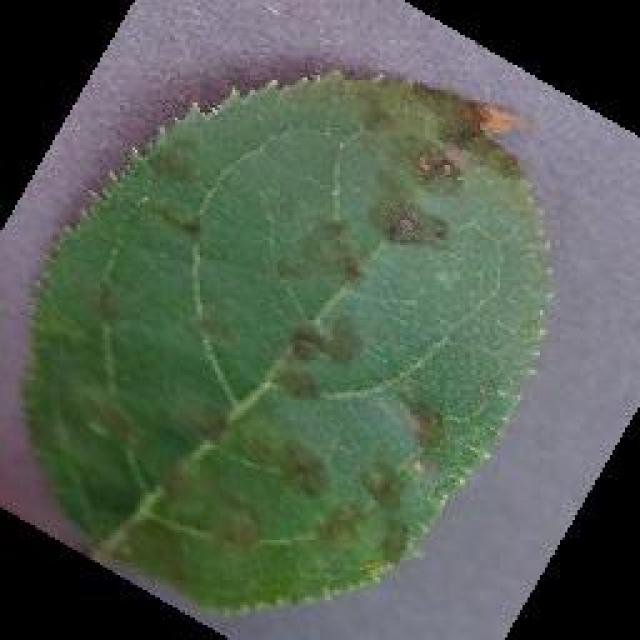apple scab disease: (17, 65, 555, 617)
